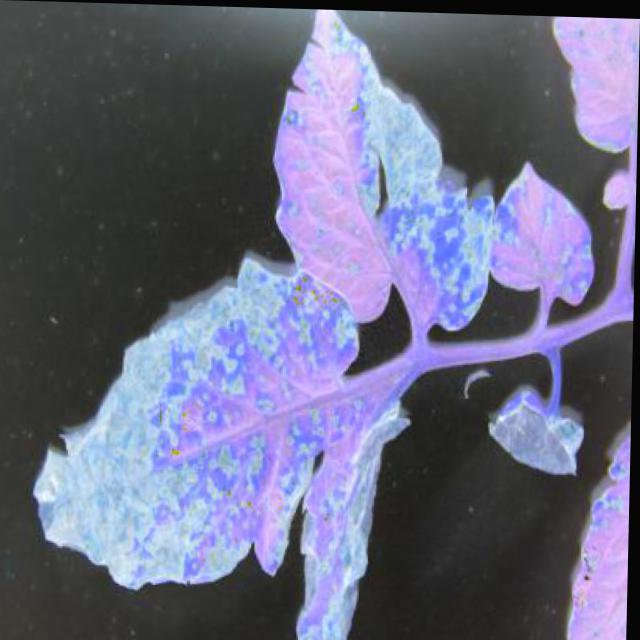Tomato Septoria spot leaf: (18, 252, 368, 594), (263, 8, 516, 343), (286, 392, 434, 639), (558, 377, 633, 639), (544, 14, 638, 220), (484, 146, 596, 311)
